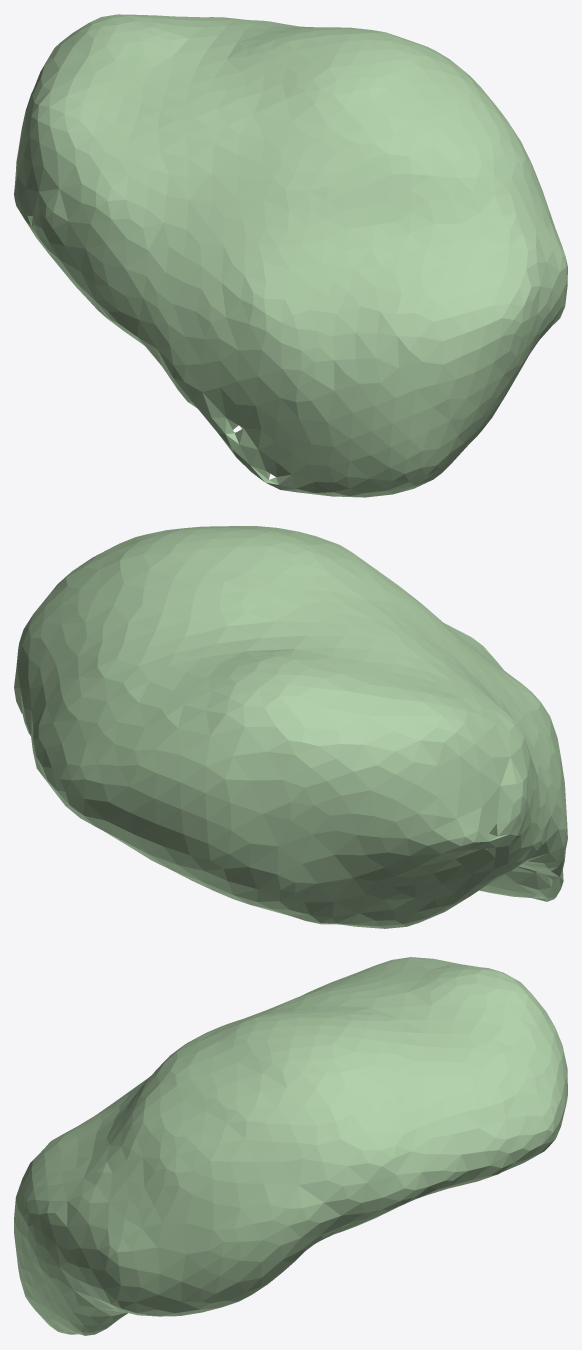
The model's file is Left_Amygdala.glb.
3 views of the same model, one above another, from view 1: azimuth 30°, elevation 25°; view 2: azimuth 150°, elevation 25°; view 3: azimuth 270°, elevation 25° (orthographic). The views are drawn at different scales.
Parts seen in each view (by area): view 1: world; view 2: world; view 3: world.
Part boxes in pixels (x1,y1,x2,y2): world: (14,14,567,497); world: (14,526,567,928); world: (14,957,567,1335).
Size of the model in its own units: 18.5 by 13.82 by 21.16.
